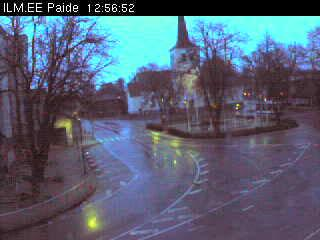bus: (248, 101, 283, 121)
